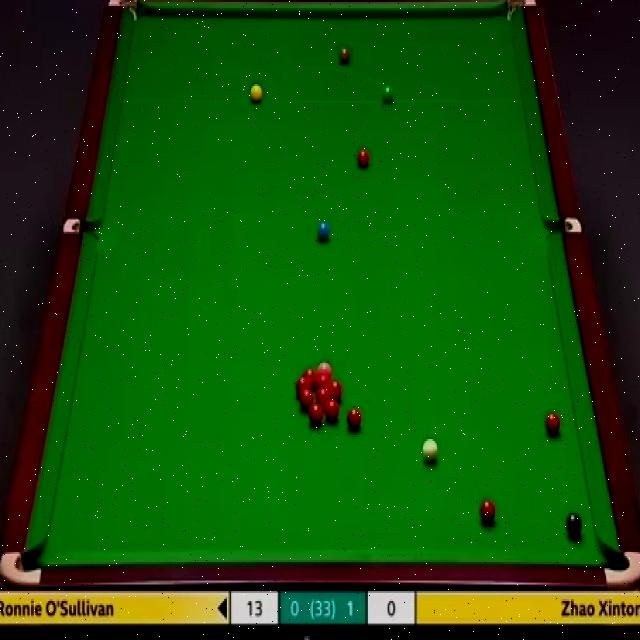black-ball: (566, 516, 584, 542)
blue-ball: (316, 220, 330, 243)
brown-ball: (338, 47, 351, 68)
green-ball: (380, 85, 396, 107)
pink-ball: (317, 362, 332, 373)
red-ball: (545, 414, 562, 439), (322, 399, 338, 423), (481, 499, 496, 524), (296, 378, 312, 399), (346, 409, 360, 431), (309, 399, 322, 421), (328, 381, 342, 401), (299, 392, 314, 410), (356, 150, 369, 169), (317, 386, 330, 402), (316, 372, 328, 389), (304, 369, 317, 384)
white-ball: (422, 440, 438, 462)
yellow-ball: (250, 84, 263, 104)
